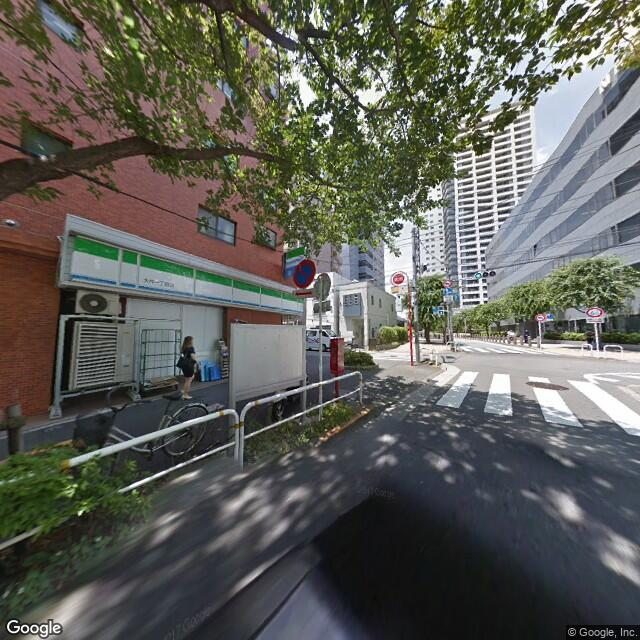family_mart: (73, 226, 309, 317), (282, 245, 301, 275)
